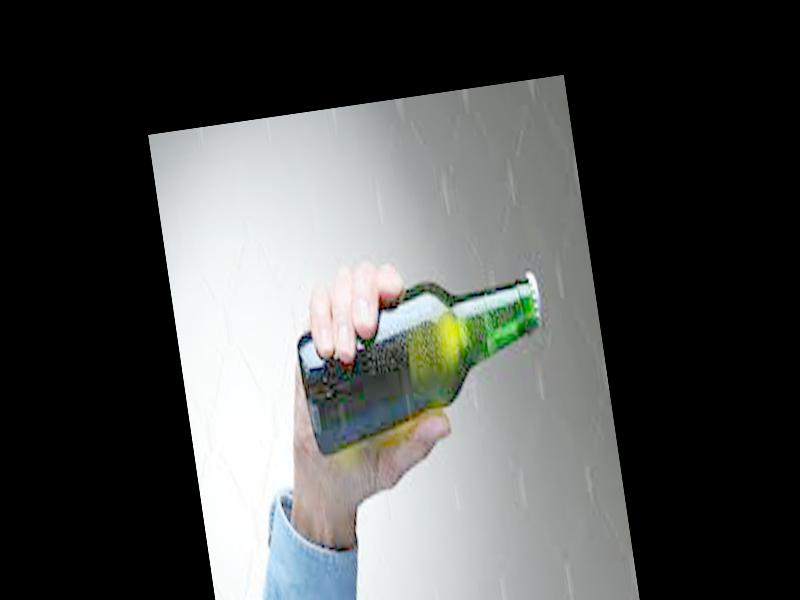Beer: (288, 267, 561, 461)
